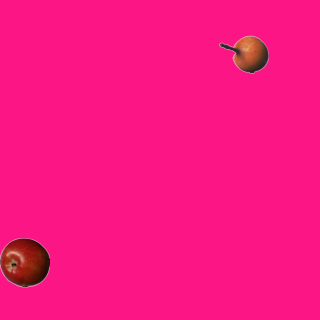Apple Braeburn: (0, 237, 49, 287)
Granadilla: (218, 29, 268, 79)
